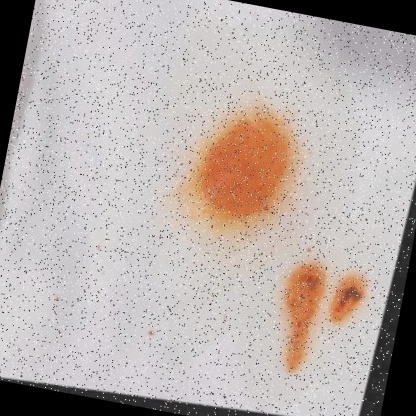kimchi: (176, 96, 306, 233), (268, 254, 334, 379), (333, 268, 371, 321), (145, 325, 163, 344), (303, 239, 317, 255)
